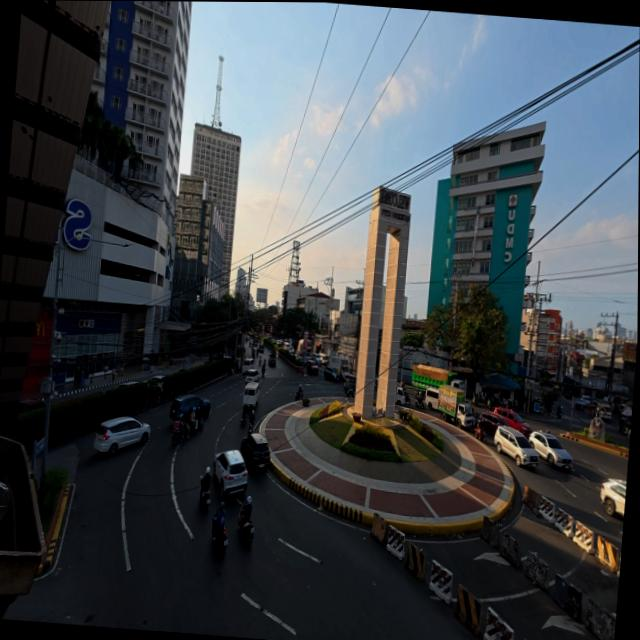car: (93, 416, 150, 456), (494, 426, 538, 468), (213, 450, 247, 497), (528, 432, 572, 468), (494, 407, 531, 437), (240, 433, 269, 469), (169, 394, 209, 419), (599, 479, 625, 516), (478, 412, 507, 437), (17, 399, 44, 413), (147, 375, 163, 395), (343, 376, 355, 398), (323, 366, 339, 382), (115, 380, 137, 389), (245, 369, 259, 383), (305, 360, 317, 374), (267, 351, 275, 367), (580, 395, 591, 405), (313, 353, 321, 366), (256, 342, 264, 353), (251, 339, 257, 347), (286, 348, 292, 355), (627, 429, 630, 440)
motorcycle: (170, 414, 184, 444), (237, 518, 253, 544), (188, 408, 202, 435), (214, 527, 227, 554), (200, 489, 211, 511), (474, 423, 485, 443), (414, 391, 426, 409), (199, 490, 209, 511), (471, 392, 484, 407), (248, 414, 254, 433), (295, 388, 302, 400), (239, 414, 245, 426), (556, 407, 561, 419), (404, 392, 409, 403), (248, 422, 252, 434), (261, 366, 264, 376)
trucks: (437, 385, 473, 427), (410, 364, 465, 391), (328, 356, 350, 380)
vans: (243, 383, 258, 408), (424, 387, 438, 410), (596, 404, 610, 421), (242, 359, 251, 373)
